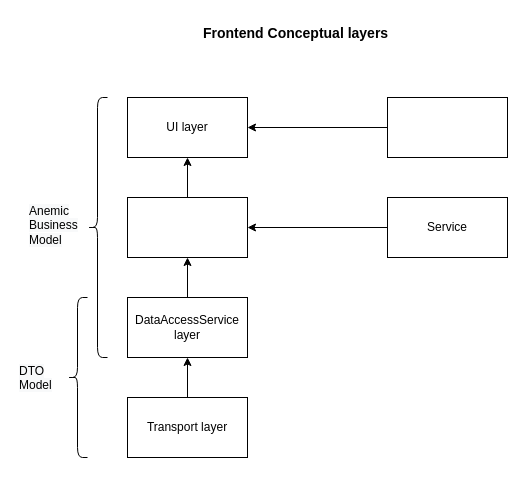
Some shapes in this 525 by 483 pixel diagram are drawn without their labels. Each missing label, with the centre of its shape:
"Business layer" goes at point (187, 227).
"Component" goes at point (447, 127).
